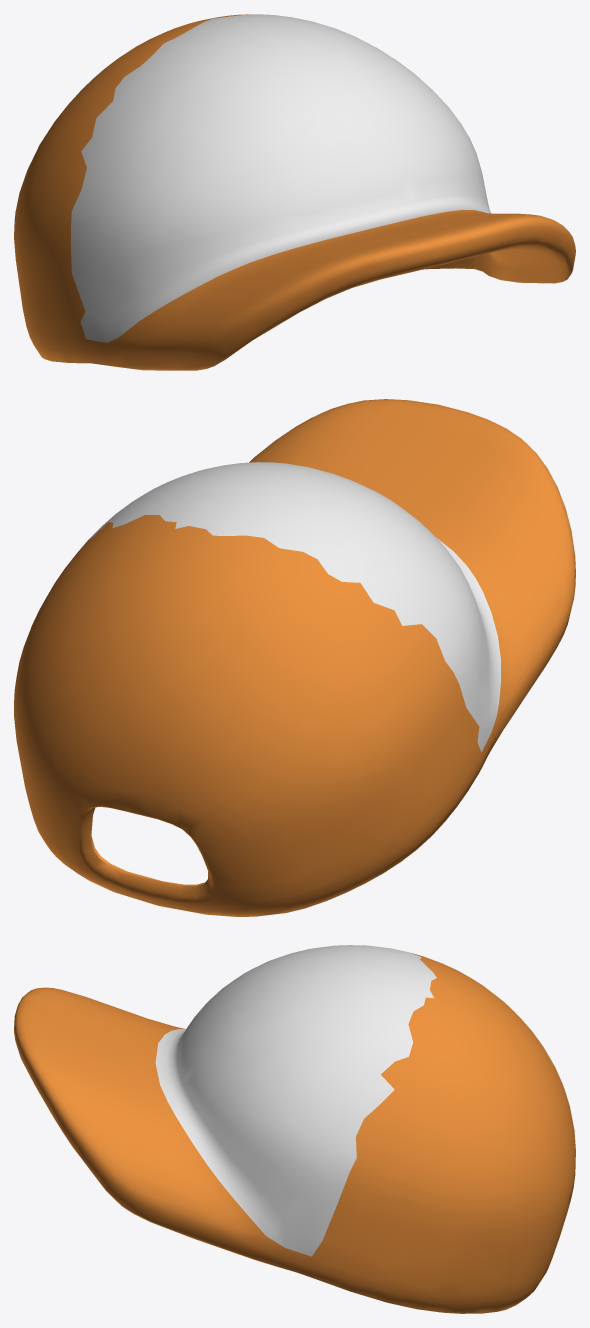
The model's file is headwear-cap-yellow-eb21d5b9.glb.
The picture shows the model from 3 angles, top to bottom: view 1: azimuth 30°, elevation 25°; view 2: azimuth 150°, elevation 25°; view 3: azimuth 270°, elevation 25°; orthographic projection. The views are drawn at different scales.
Visible parts, largest first — view 1: cap_yellow.001; view 2: cap_yellow.001; view 3: cap_yellow.001.
Part boxes in pixels (left/top/right/bottom): cap_yellow.001: left=14, top=14, right=575, bottom=370; cap_yellow.001: left=14, top=399, right=575, bottom=916; cap_yellow.001: left=14, top=945, right=575, bottom=1313.
Bounding box in the file's own units: 1.86 × 1.53 × 2.55.
